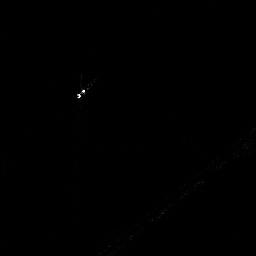ship: (75, 87, 87, 100)
